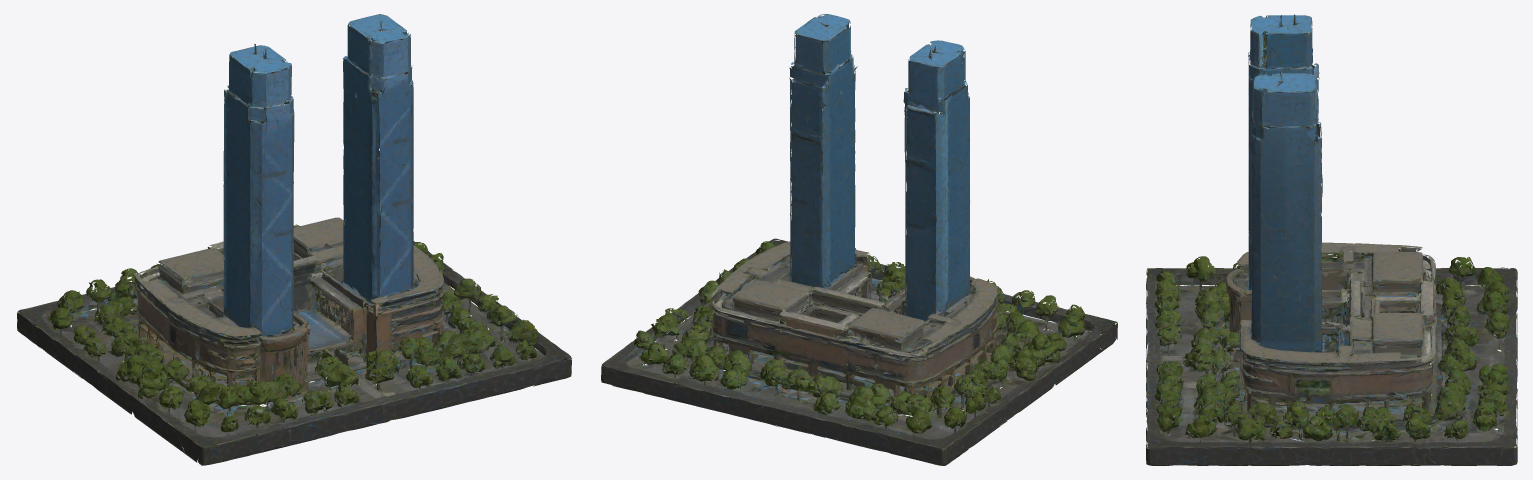
The model's file is dongwu.glb.
The picture shows the model from 3 angles, left to right: view 1: azimuth 30°, elevation 25°; view 2: azimuth 150°, elevation 25°; view 3: azimuth 270°, elevation 25°; orthographic projection. The views are drawn at different scales.
Visible parts, largest first — view 1: dongwu_lux3d; view 2: dongwu_lux3d; view 3: dongwu_lux3d.
Part boxes in pixels (x1,y1,x2,y2): dongwu_lux3d: (17, 14, 571, 465); dongwu_lux3d: (601, 14, 1117, 465); dongwu_lux3d: (1146, 14, 1517, 465).
Bounding box in the file's own units: 6.01 × 5.3 × 5.27.
Materials: 1 (1 with a texture image).
